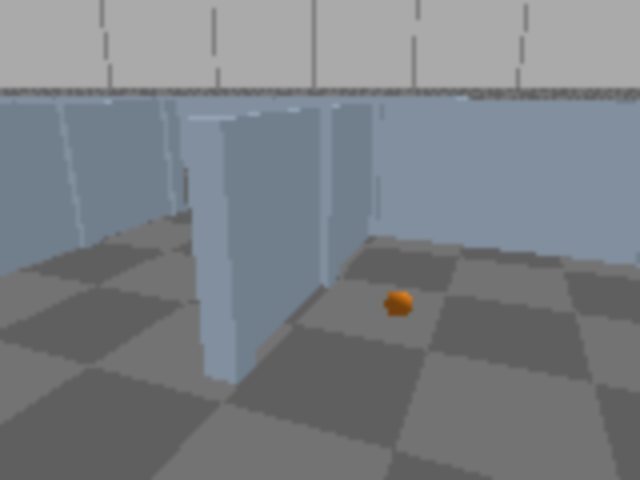puck: (381, 285, 416, 325)
